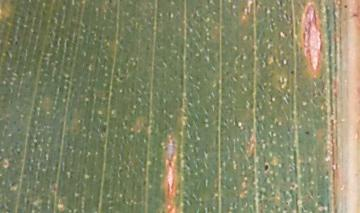tarspot: (261, 160, 272, 176), (303, 127, 313, 138), (289, 67, 298, 76), (340, 2, 349, 11)
